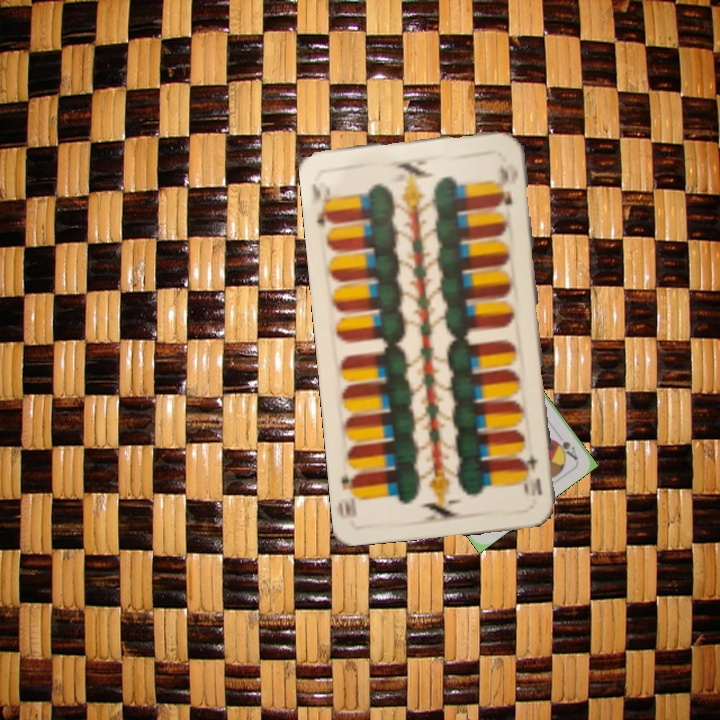E10: (308, 179, 337, 229), (519, 451, 545, 498)
SA: (550, 427, 580, 463)
